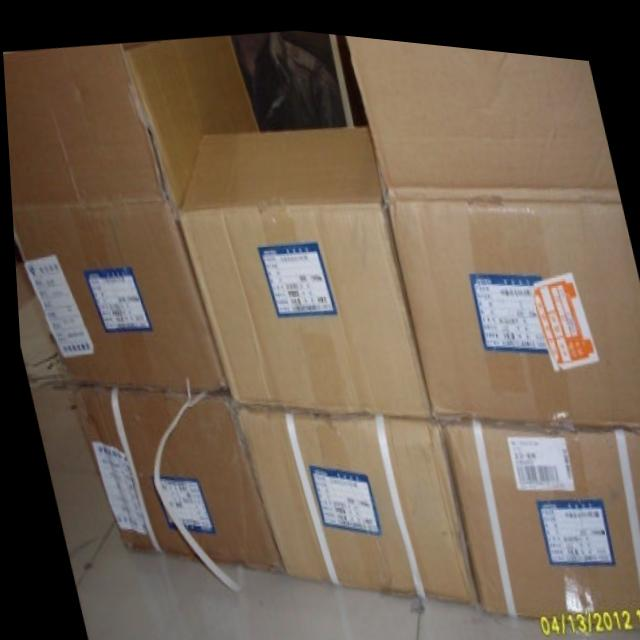box: (344, 28, 640, 412), (3, 30, 259, 387), (175, 117, 427, 411), (234, 404, 472, 600), (437, 408, 640, 615), (63, 383, 279, 566)
